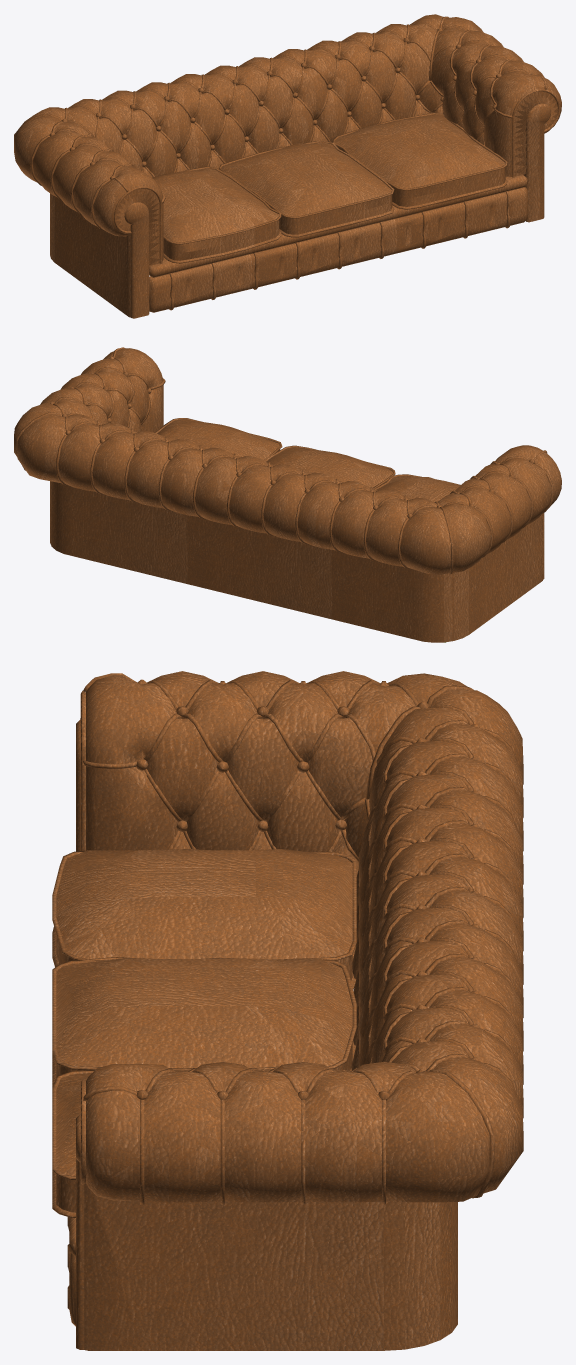
File: sofa_2.glb
3 views of the same model, one above another, from view 1: azimuth 30°, elevation 25°; view 2: azimuth 150°, elevation 25°; view 3: azimuth 270°, elevation 25° (orthographic). The views are drawn at different scales.
Parts seen in each view (by area): view 1: root; view 2: root; view 3: root.
Boxes of the visible parts, x1=… form: root: x1=14, y1=14, x2=561, y2=318; root: x1=14, y1=347, x2=561, y2=642; root: x1=52, y1=671, x2=523, y2=1350.
Size of the model in its own units: 2.58 by 0.7562 by 1.13.
Materials: 3 (1 with a texture image).
